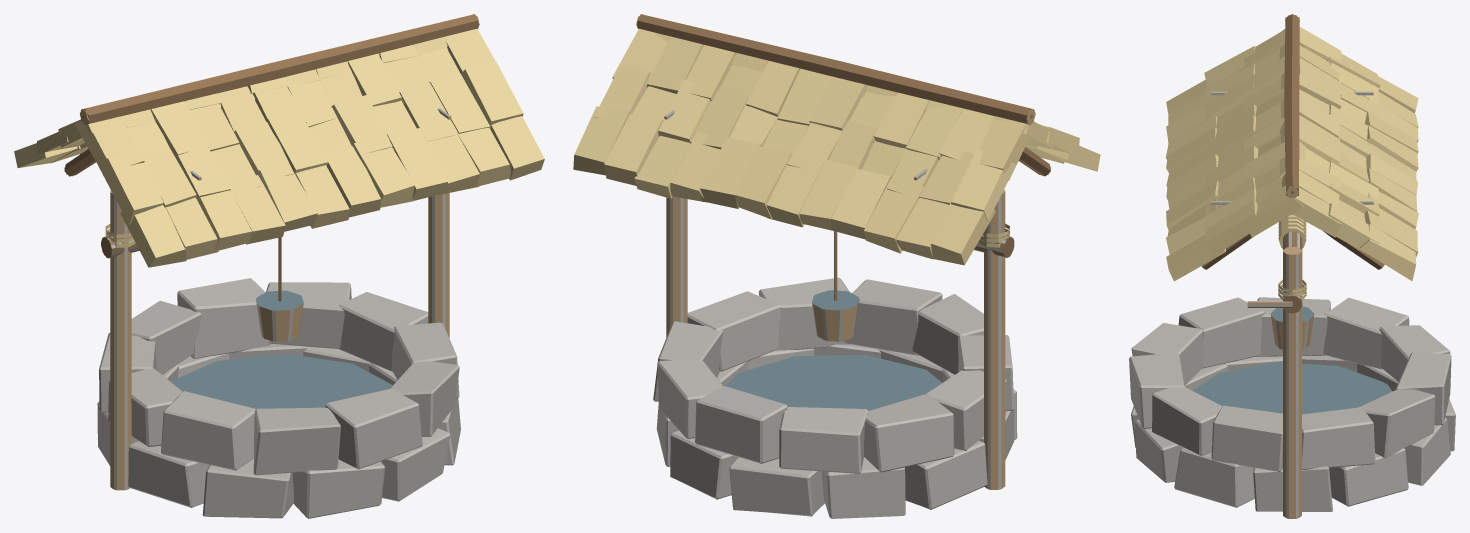
Rendered from well_body.glb.
The picture shows the model from 3 angles, left to right: view 1: azimuth 30°, elevation 25°; view 2: azimuth 150°, elevation 25°; view 3: azimuth 270°, elevation 25°; orthographic projection. The views are drawn at different scales.
Parts seen in each view (by area): view 1: well_body; view 2: well_body; view 3: well_body.
Boxes of the visible parts, x1=… form: well_body: x1=14, y1=14, x2=544, y2=518; well_body: x1=573, y1=14, x2=1100, y2=518; well_body: x1=1129, y1=14, x2=1455, y2=518.
Size of the model in its own units: 2.74 by 2.56 by 2.19.
